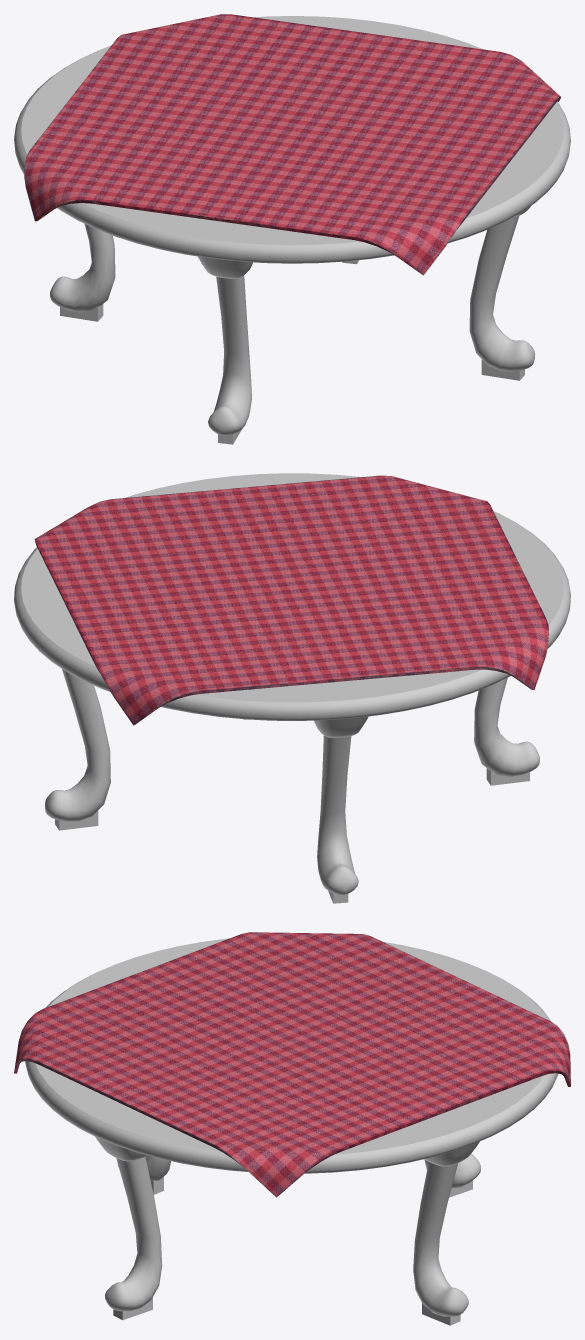
The model's file is Sweet-Table.fbx.
The picture shows the model from 3 angles, top to bottom: view 1: azimuth 30°, elevation 25°; view 2: azimuth 150°, elevation 25°; view 3: azimuth 270°, elevation 25°; orthographic projection. The views are drawn at different scales.
Parts seen in each view (by area): view 1: tablecloth, Table; view 2: tablecloth, Table; view 3: tablecloth, Table.
Part boxes in pixels (x1,y1,x2,y2): tablecloth: (24,14,560,275); Table: (14,16,570,444); tablecloth: (34,475,549,725); Table: (14,473,570,903); tablecloth: (14,932,570,1197); Table: (25,938,557,1325).
Size of the model in its own units: 12.43 by 5.21 by 12.43.
